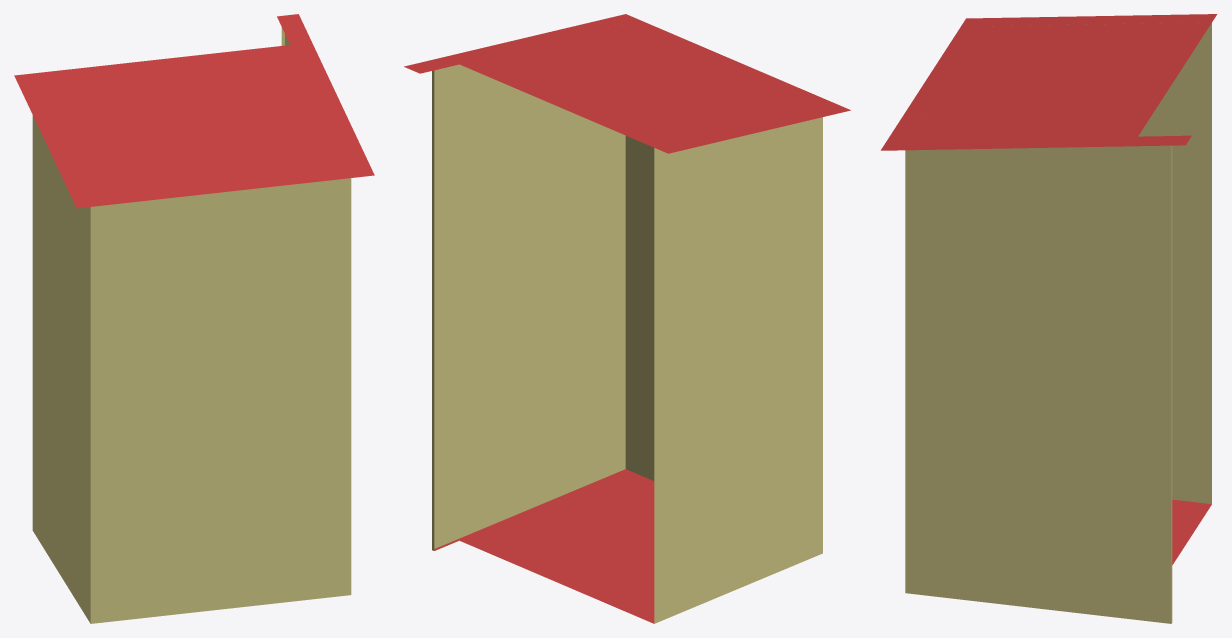
3 renders of one model, left to right at view 1: azimuth 30°, elevation 25°; view 2: azimuth 150°, elevation 25°; view 3: azimuth 270°, elevation 25°, orthographic. The views are drawn at different scales.
Bounding box in the file's own units: 4.89 × 4.15 × 6.65.
